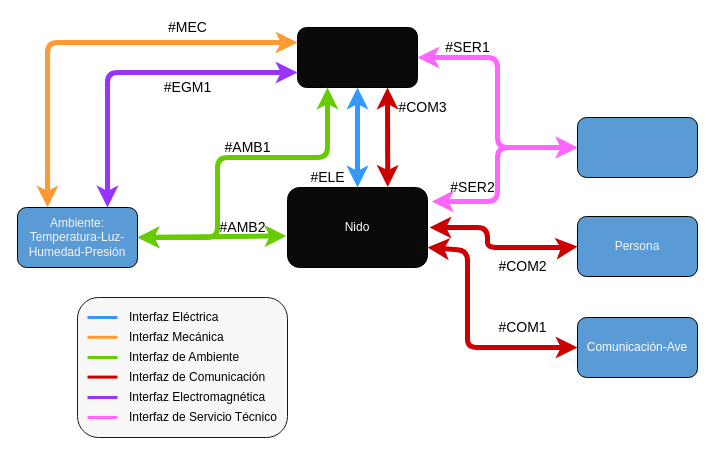
This 715x455 diagram has some shape labels left out. Each missing label, with the centre of its shape:
"Servicio Técnico" belongs at (x=637, y=147).
"Unidad de Energía" belongs at (x=357, y=57).
